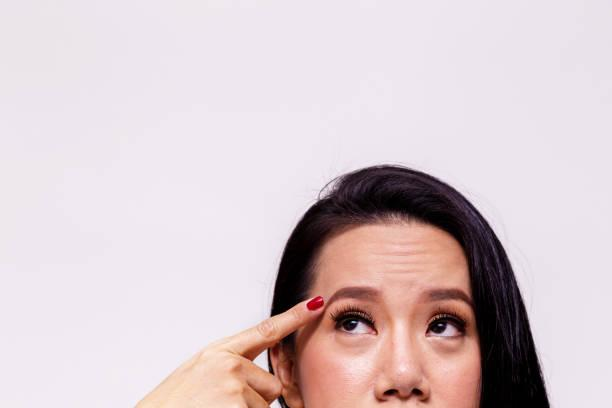Dry-Skin: (358, 232, 449, 294)
